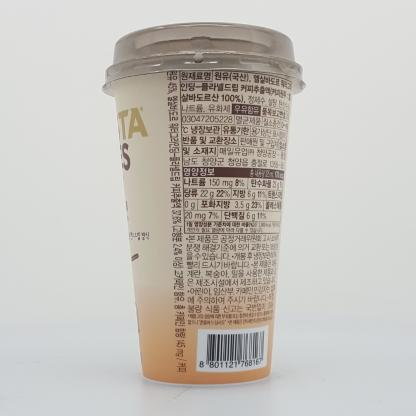------------------325ML: (101, 22, 306, 387)
